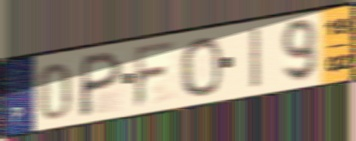0: (36, 60, 75, 122)
9: (279, 17, 319, 84)
F: (132, 38, 178, 112)
I: (248, 24, 263, 92)
O: (178, 35, 224, 98)
P: (76, 48, 126, 119)
